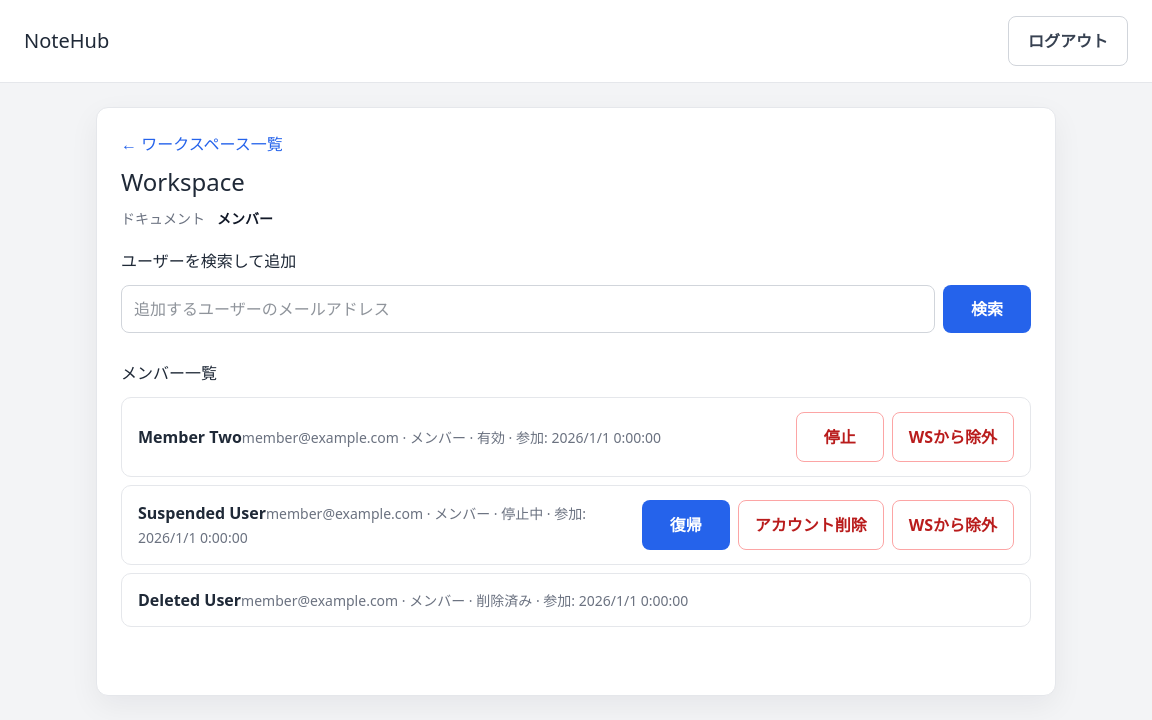
Test: MembersPage › shows not-found search message and generic search errors
The width and height of the screenshot is (1152, 720).
Type "missing@example.com" into the field with placeholder "追加するユーザーのメールアドレス".
click(528, 309); type("missing@example.com")  # box [121, 285, 935, 333]
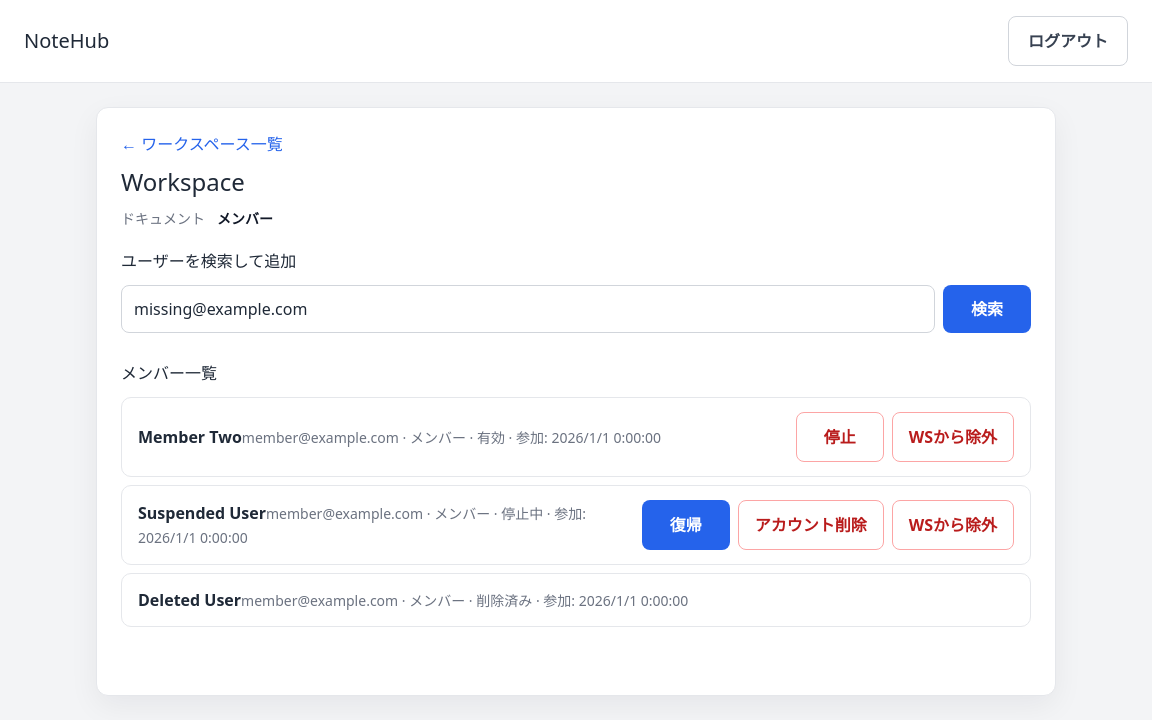
Submit the form with placeholder "追加するユーザーのメールアドレス", box [121, 285, 1031, 333]
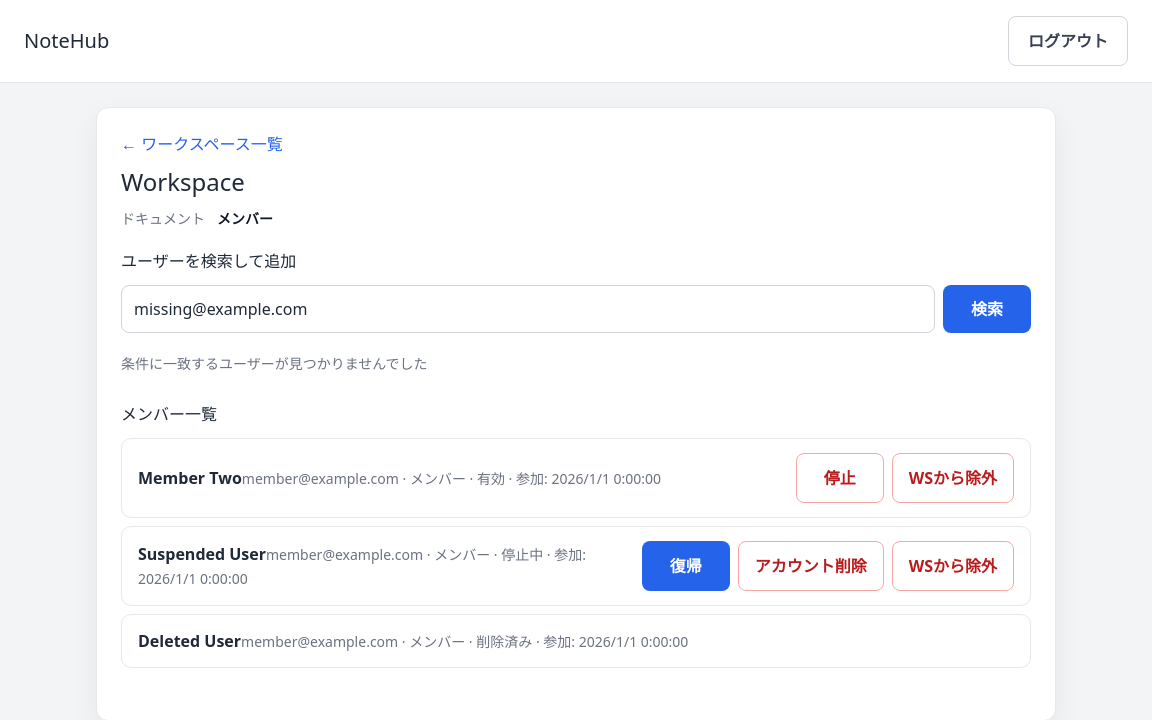
Expected: the text "条件に一致するユーザーが見つかりませんでした" is shown, [121, 354, 428, 373]
Replace the text in the field with placeholder "追加するユーザーのメールアドレス" with "bad@example.com" at (528, 309), box [121, 285, 935, 333]
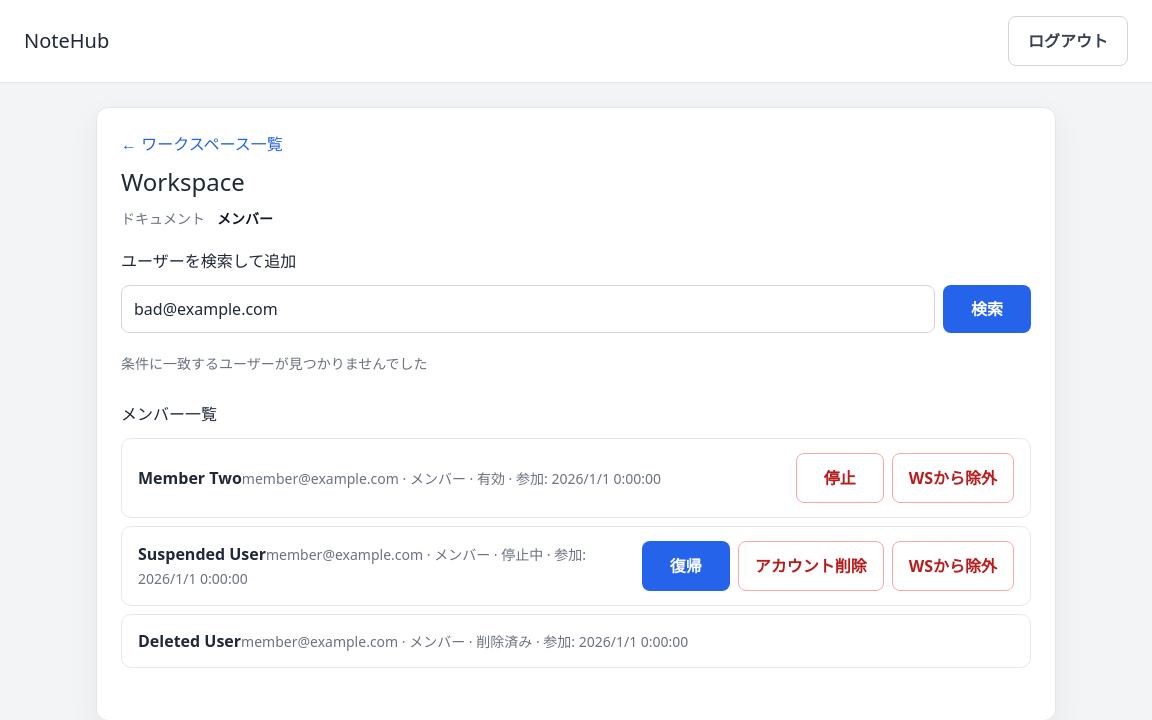
Submit the form with placeholder "追加するユーザーのメールアドレス", box [121, 285, 1031, 333]
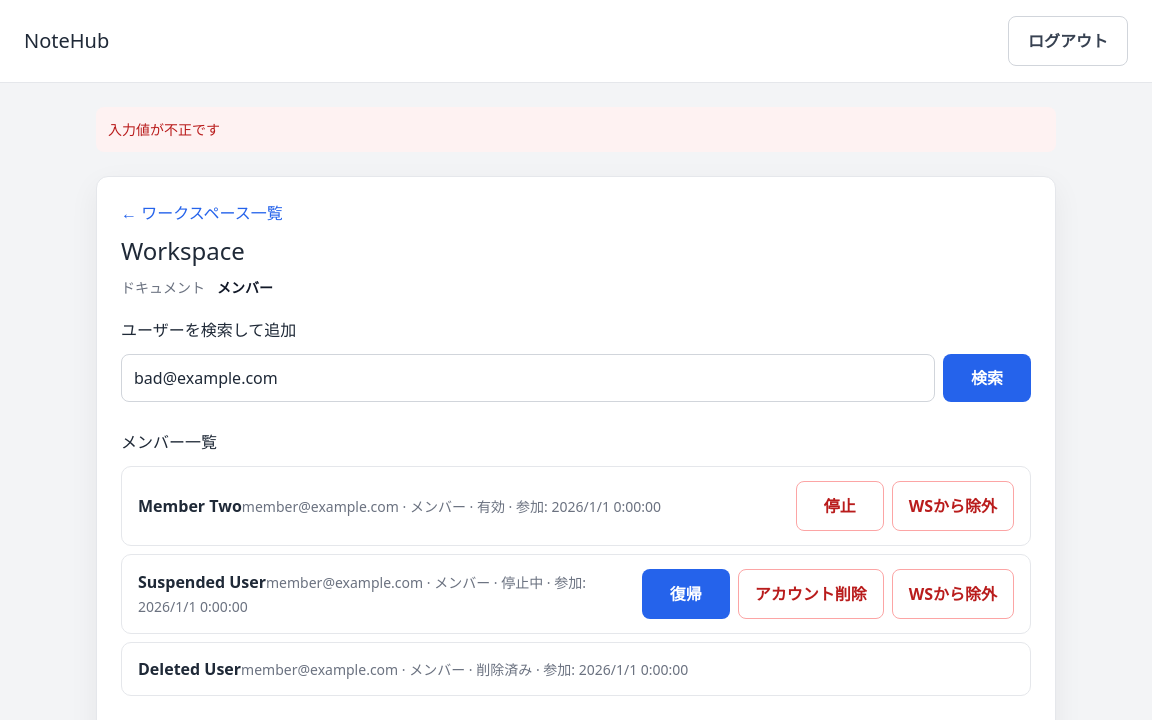
Expected: the text "入力値が不正です" is shown, [96, 107, 1056, 152]
